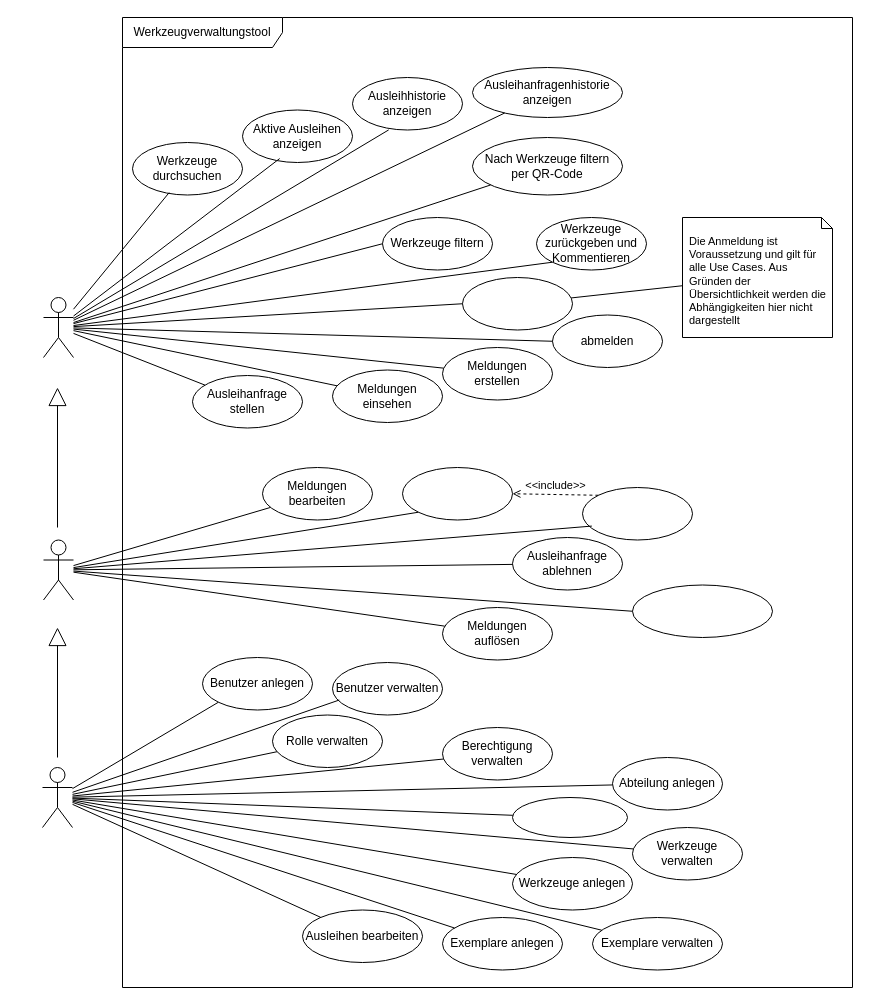
The diagram is 870 pixels wide and 1005 high, and some of its shapes have lost their labels. The shapes that lost their labels are listed below. From the top down, each one's box as (x1, y1, x2, y2) in pixels, then its label:
(462, 276, 572, 330): anmelden
(42, 296, 74, 358): Mitarbeiter
(402, 466, 512, 520): Werkzeug buchen
(582, 486, 692, 540): Ausleihanfrage genehmigen
(42, 539, 74, 600): Abteilungsleiter
(632, 584, 772, 638): Überfälligen Ausleihen anzeigen
(42, 766, 72, 828): Admin
(512, 796, 628, 838): Abteilung verwalten
